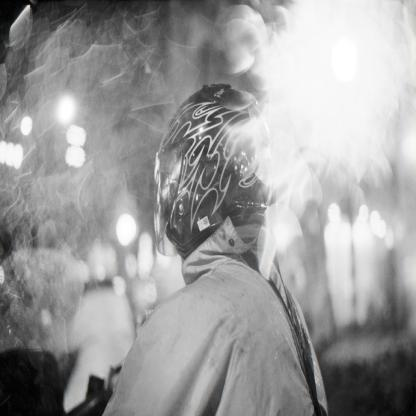Helmet: (146, 88, 272, 270)
